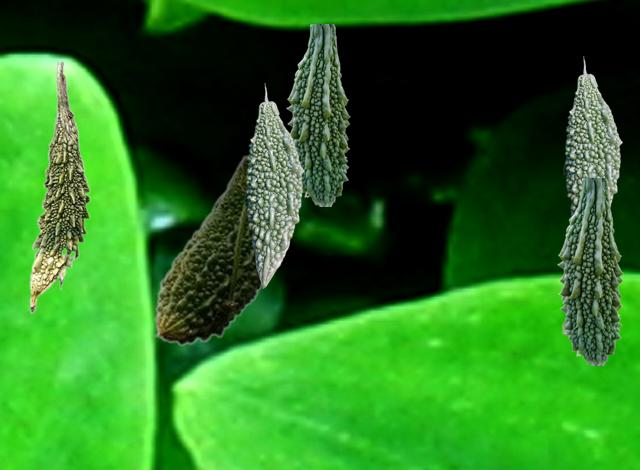ampalaya: (154, 155, 265, 345), (29, 62, 90, 313), (557, 178, 622, 364), (244, 83, 303, 287), (286, 24, 349, 205), (563, 56, 621, 215)
